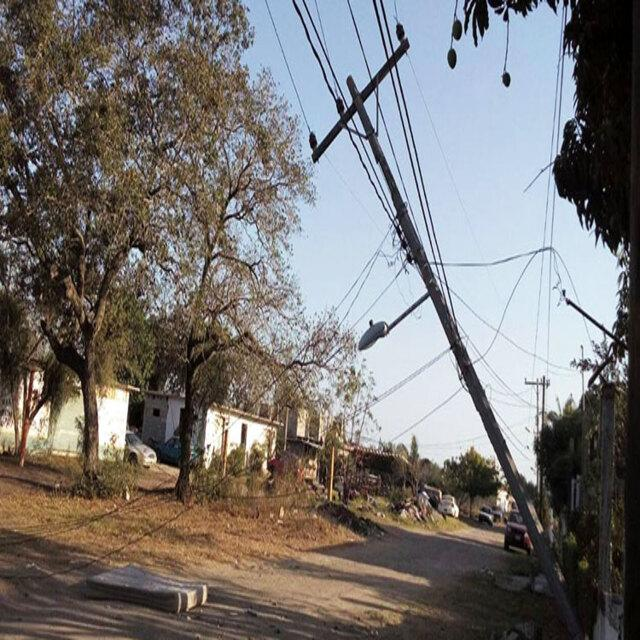Inclined Pole: (296, 17, 591, 640)
